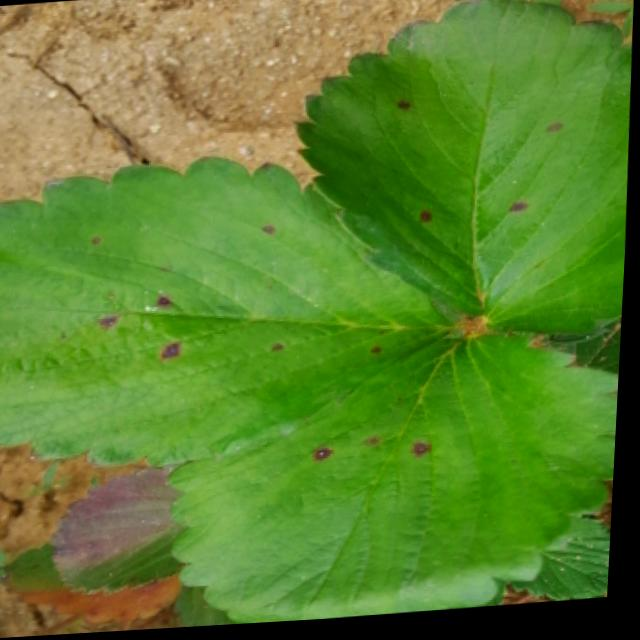Leaf Spot: (0, 156, 463, 474), (169, 337, 623, 627), (294, 2, 633, 353)
